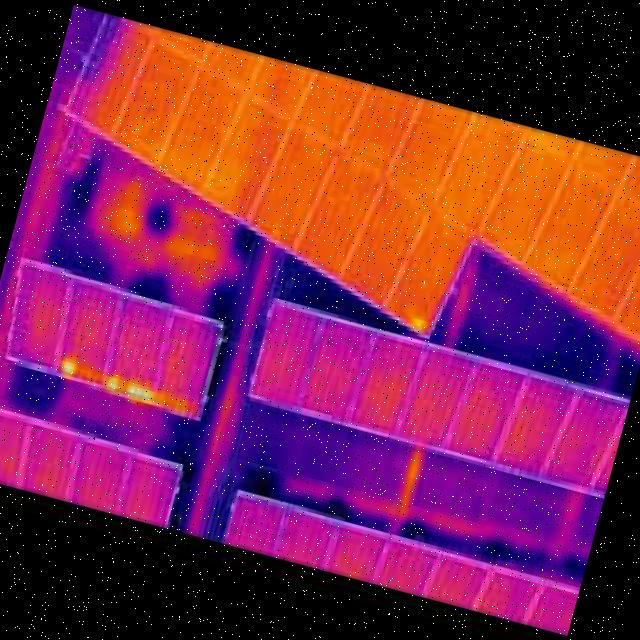Hotspot: (100, 369, 162, 410), (54, 354, 82, 379), (406, 310, 431, 333)
